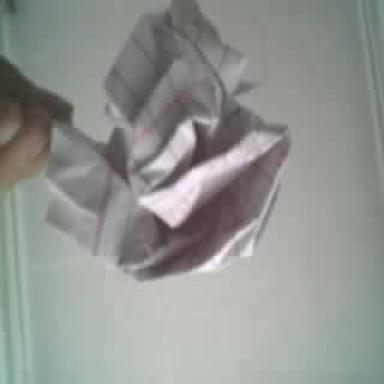paper: (47, 0, 288, 278)
